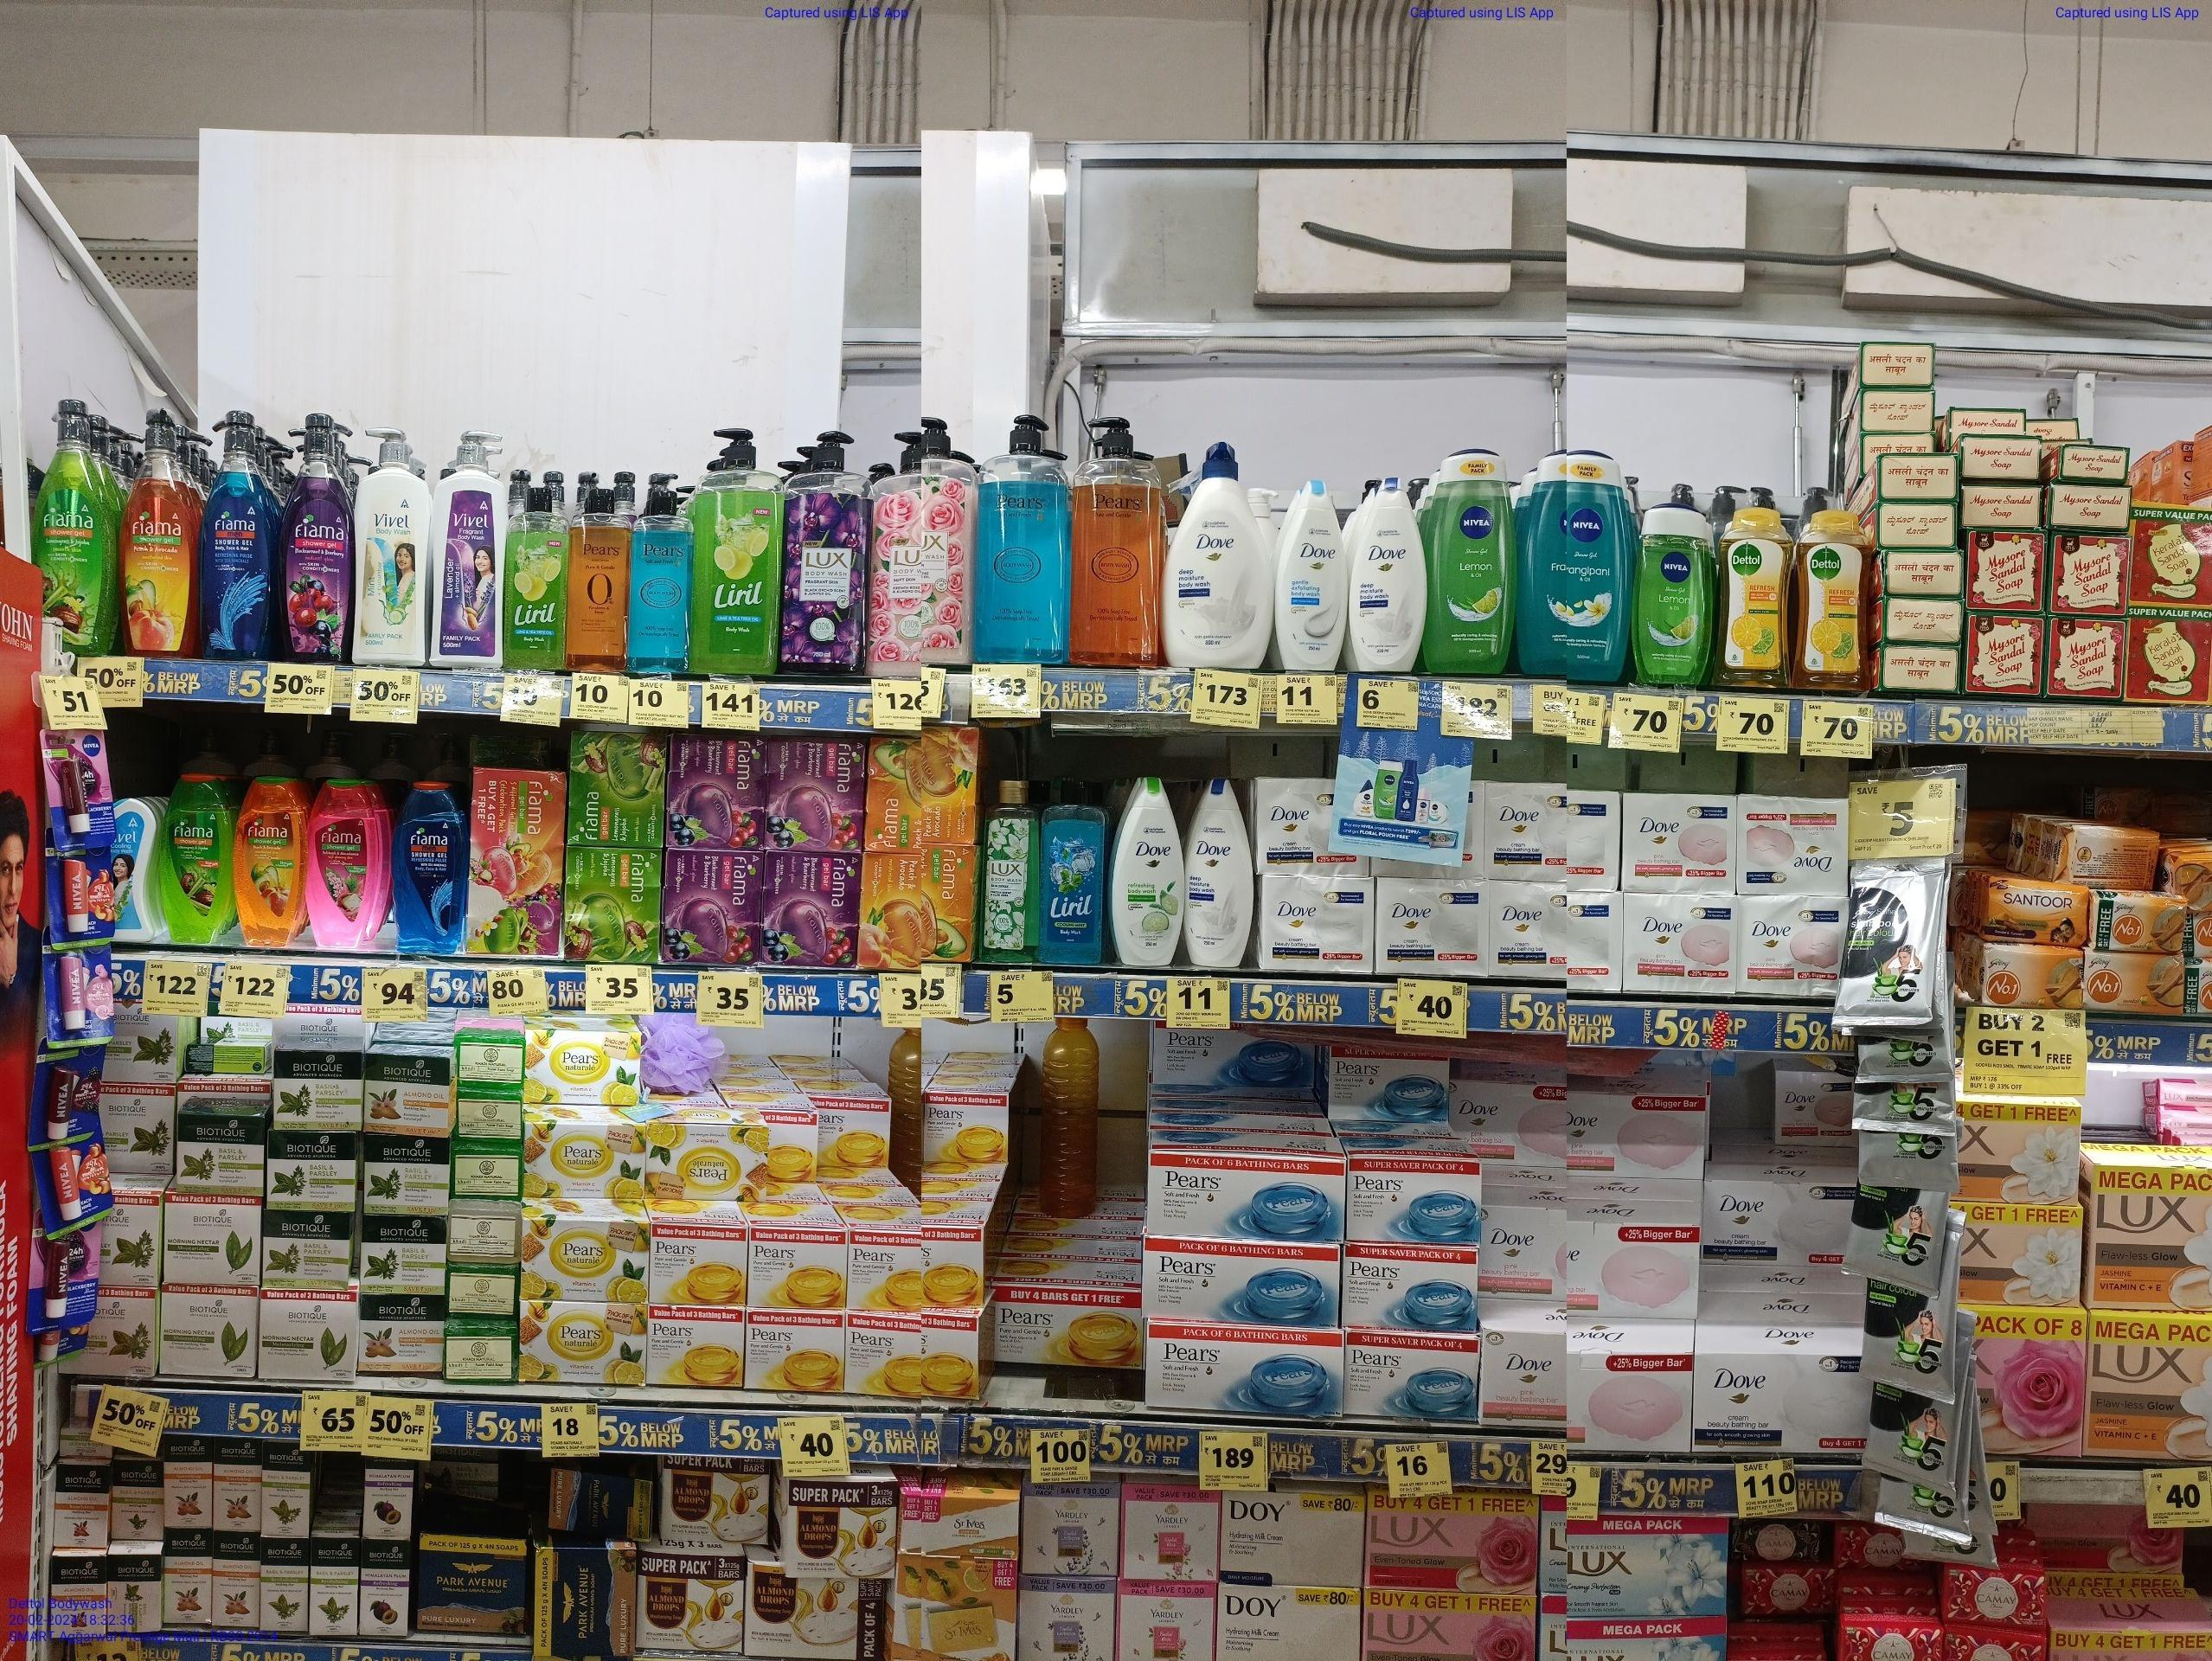Dettol_Bodywash_Refresh: (1713, 506, 1793, 686), (1795, 506, 1872, 691)
Dove_Deep_Moisture_Body_Wash_250ML: (1347, 476, 1429, 672)
Dove_Gentle_Exfoliating_Body_Wash_250ML: (1273, 480, 1347, 670)
Liril_Lime_and_Tea_Tree_Oil_Body_Wash_250ML: (504, 485, 565, 670)
Nivea_Shower_Gel_Lemon_and_Oil_250ML: (1427, 447, 1519, 675), (1631, 499, 1715, 687)
Pears_Pure_Glycerin_and_Mint_Extracts_Body_Wash_250ML: (628, 483, 694, 675)
